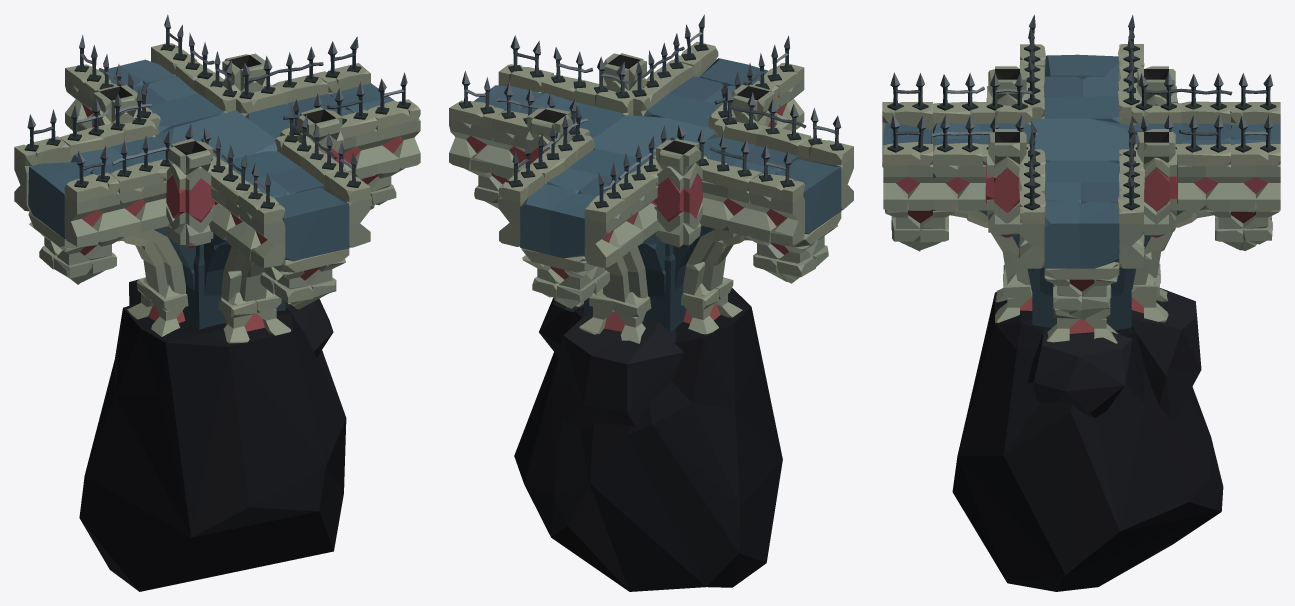
File: bridge_cross_02.fbx
3 views of the same model, side by side, from view 1: azimuth 30°, elevation 25°; view 2: azimuth 150°, elevation 25°; view 3: azimuth 270°, elevation 25° (orthographic).
Parts seen in each view (by area): view 1: bridge_cross_02; view 2: bridge_cross_02; view 3: bridge_cross_02.
Part boxes in pixels (<box>): bridge_cross_02: <box>14,14,420,591</box>; bridge_cross_02: <box>449,14,853,591</box>; bridge_cross_02: <box>882,14,1280,591</box>.
Size of the model in its own units: 802 by 1036 by 802.
